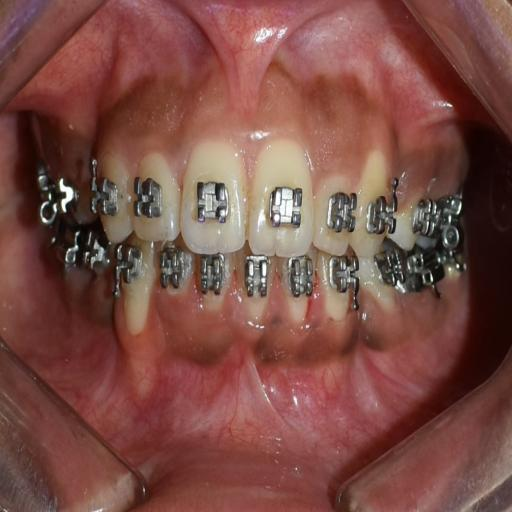correct_brace: (192, 176, 230, 226), (268, 181, 304, 233), (367, 188, 399, 239), (130, 176, 164, 217), (328, 192, 358, 234), (90, 172, 117, 218)
incorrect_brace: (134, 154, 180, 242), (316, 162, 354, 255)
